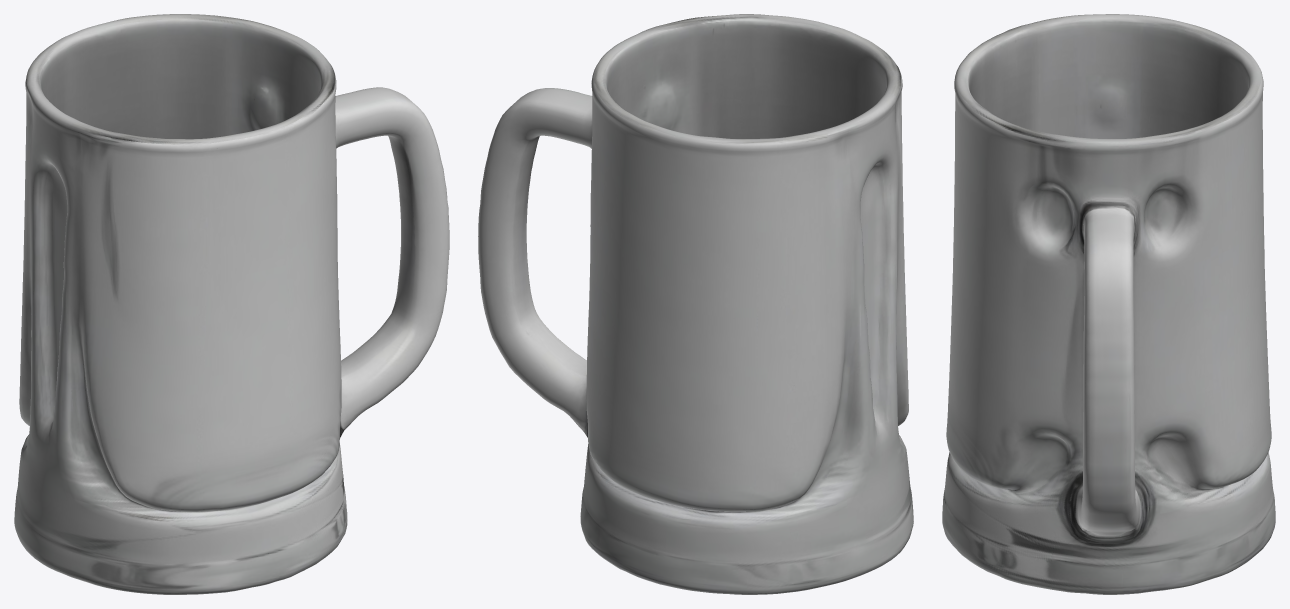
The model's file is model_beer_mug.glb.
3 views of the same model, side by side, from view 1: azimuth 30°, elevation 25°; view 2: azimuth 150°, elevation 25°; view 3: azimuth 270°, elevation 25° (orthographic).
Visible parts, largest first — view 1: tripo_node_6aba7875-51cb-4e62-9776-9751efba2e61; view 2: tripo_node_6aba7875-51cb-4e62-9776-9751efba2e61; view 3: tripo_node_6aba7875-51cb-4e62-9776-9751efba2e61.
Boxes of the visible parts, bbox=[...] form: tripo_node_6aba7875-51cb-4e62-9776-9751efba2e61: bbox=[14, 14, 449, 594]; tripo_node_6aba7875-51cb-4e62-9776-9751efba2e61: bbox=[478, 14, 913, 594]; tripo_node_6aba7875-51cb-4e62-9776-9751efba2e61: bbox=[942, 14, 1275, 594].
Bounding box in the file's own units: 0.9443 × 0.9996 × 0.6719.
1 material, 1 textured.
